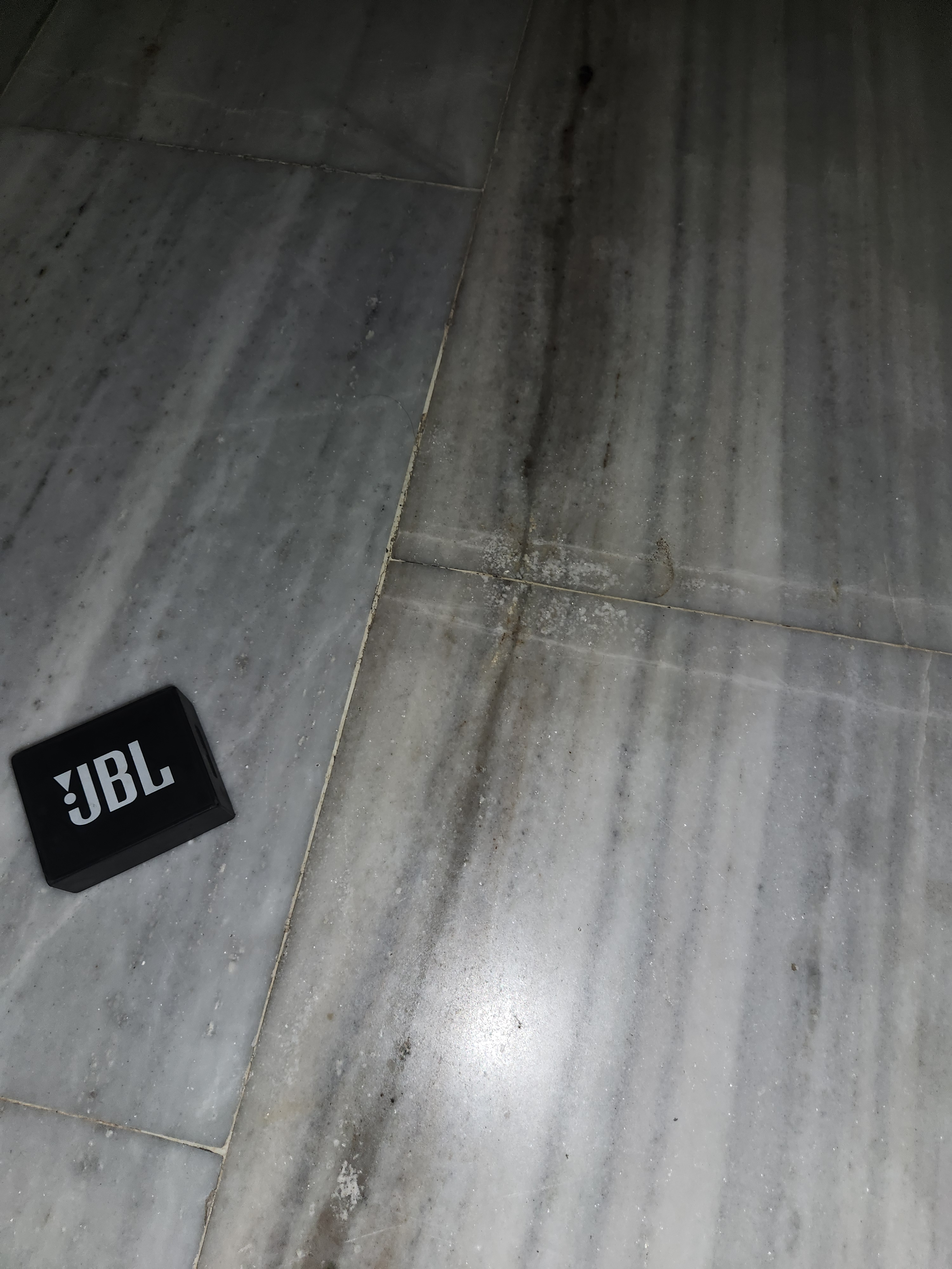speaker: (6, 686, 235, 901)
